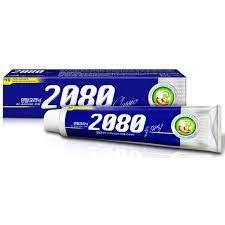toothpaste: (41, 102, 223, 161)
